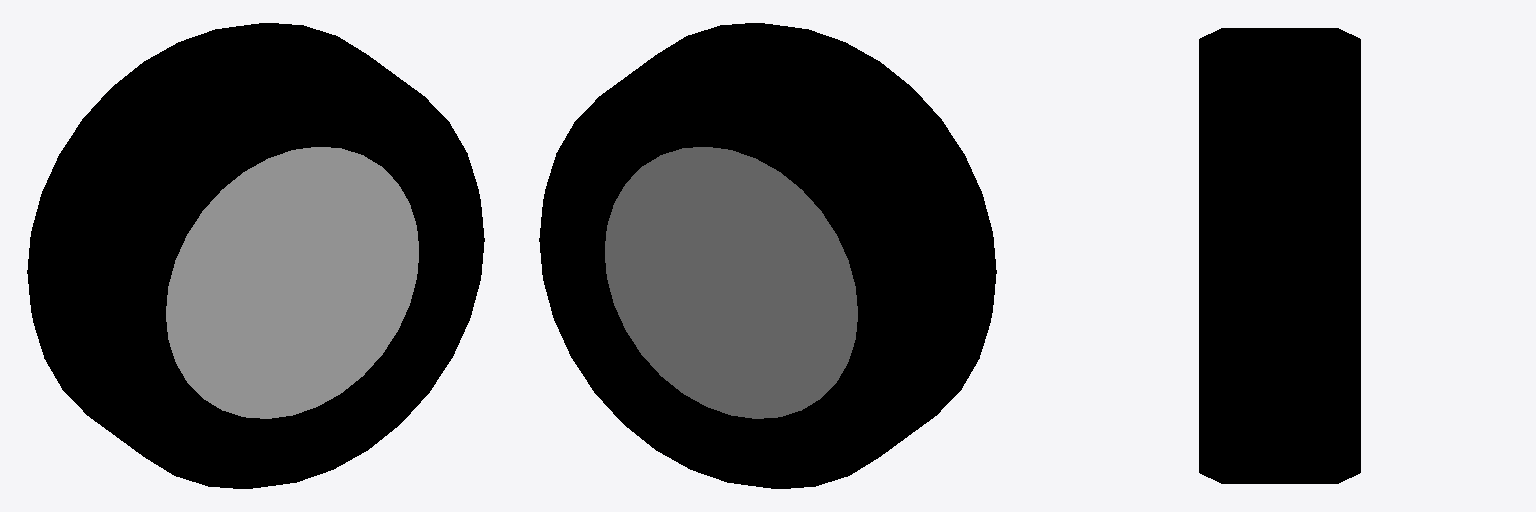
File: P06-319157293_llantaTexturizada.obj
The picture shows the model from 3 angles: view 1: azimuth 30°, elevation 25°; view 2: azimuth 150°, elevation 25°; view 3: azimuth 270°, elevation 25°; orthographic projection.
Parts seen in each view (by area): view 1: Car_Cube.005, Car_Cube.011; view 2: Car_Cube.005, Car_Cube.011; view 3: Car_Cube.005.
Boxes of the visible parts, <box> form: Car_Cube.005: <box>27,23,484,488</box>; Car_Cube.011: <box>166,147,418,418</box>; Car_Cube.005: <box>539,23,996,488</box>; Car_Cube.011: <box>605,147,857,418</box>; Car_Cube.005: <box>1199,28,1360,483</box>.
Bounding box in the file's own units: 0.8 × 0.8 × 0.285.